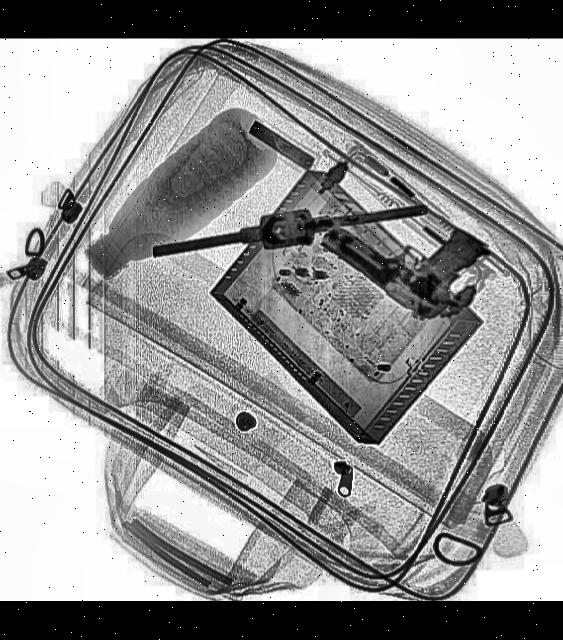Gun: (317, 167, 494, 330)
